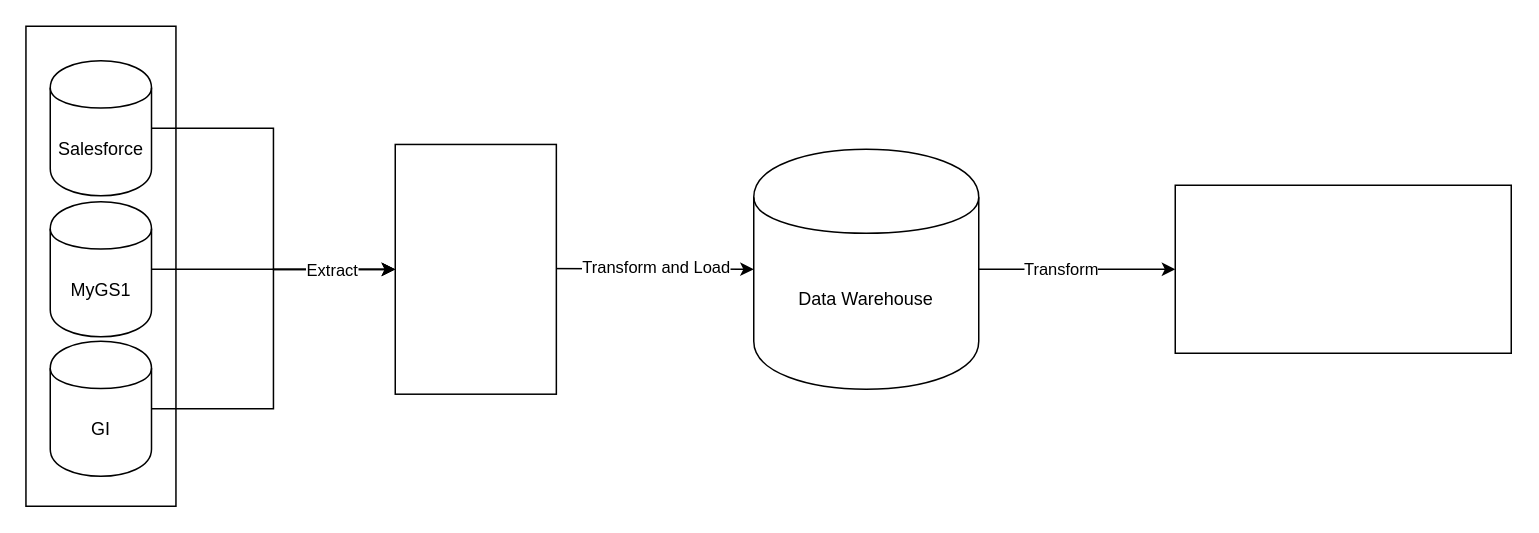
Some shapes in this 1539 by 533 pixel diagram are drawn without their labels. The box of each missing label's shape, as (x1, y1, x2, y2) in pixels:
Analytics - PowerBI: (1174, 184, 1511, 353)
Staging Area: (394, 143, 556, 394)
